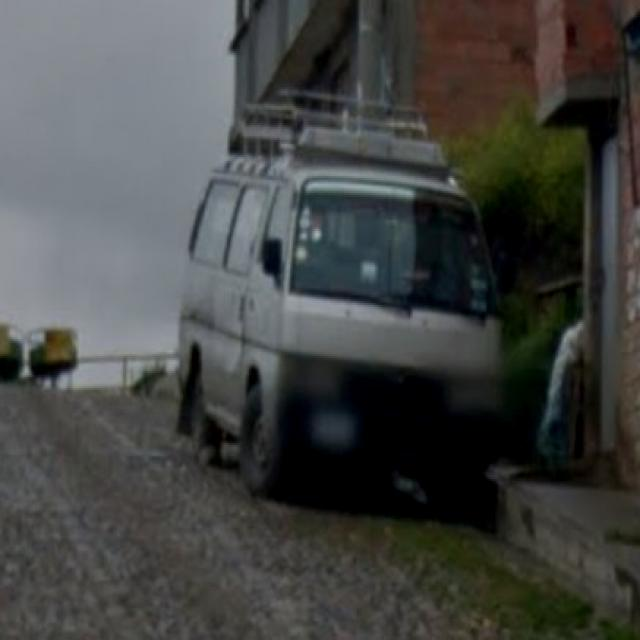car: (169, 137, 511, 514)
